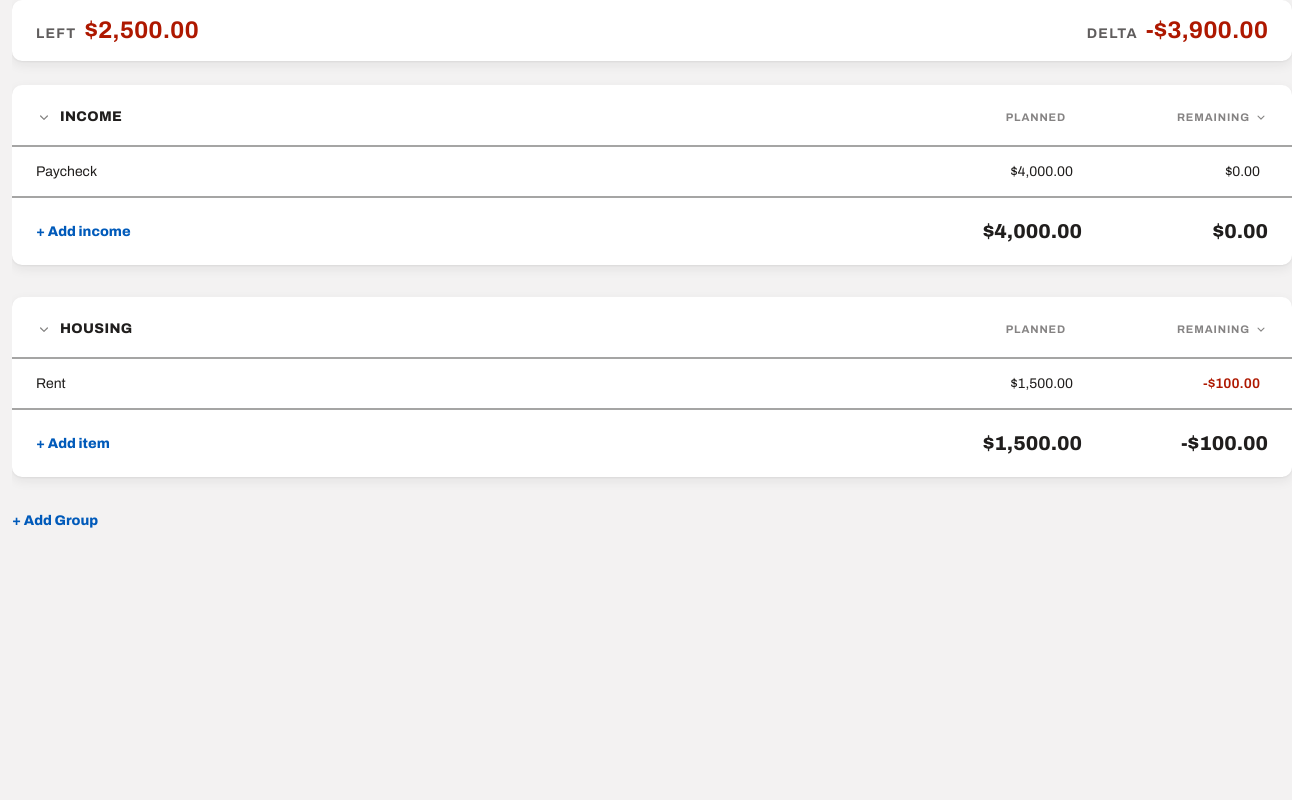
Scenario: BudgetPane (Modernist restyle) › reveals the group-name input when "+ Add Group" is clicked
Step 1. Click the button "+ Add Group" → (55, 521), box [12,511,98,531]
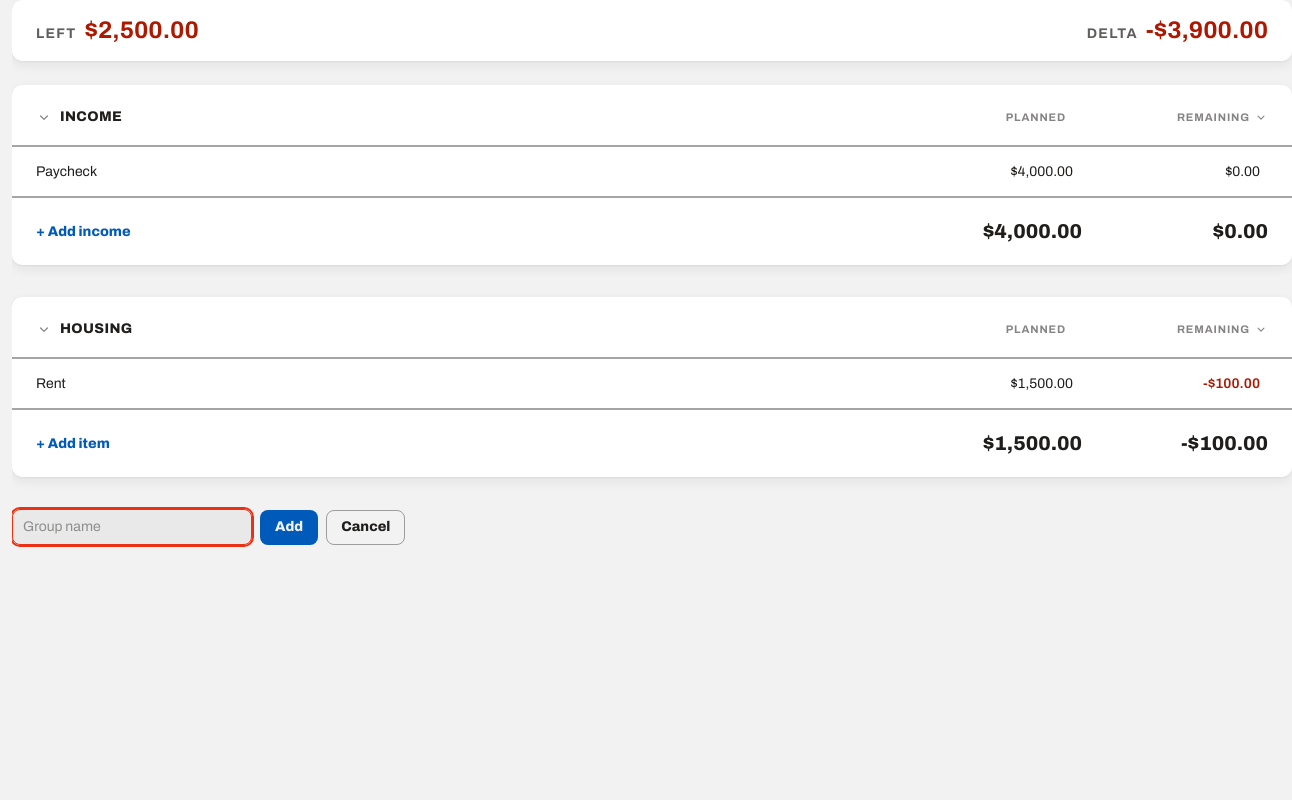
Expected: the field with placeholder "Group name" is shown, [12,509,252,545]
